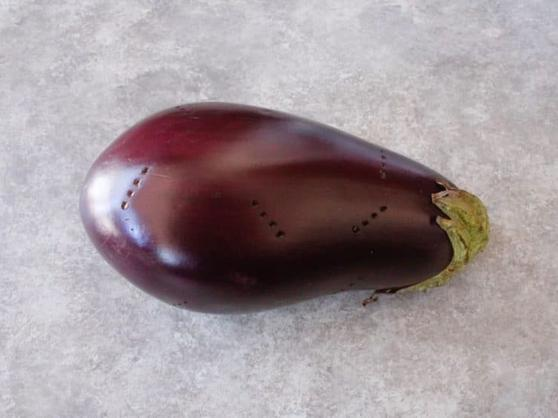eggplant: (83, 102, 496, 315)
